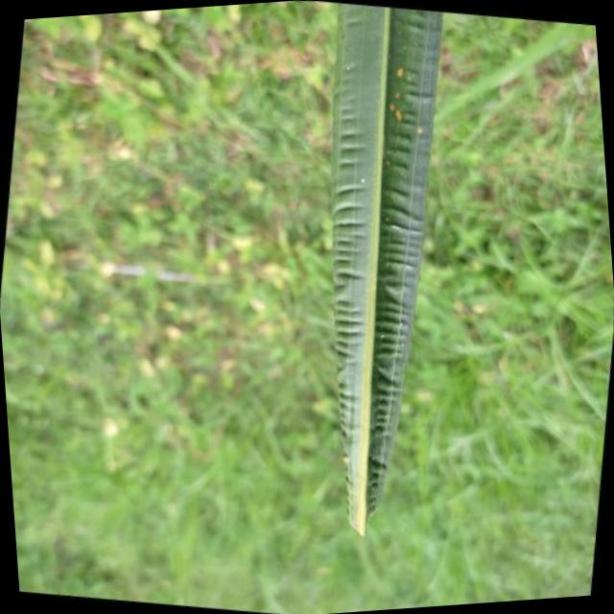Boron: (331, 1, 437, 538)
